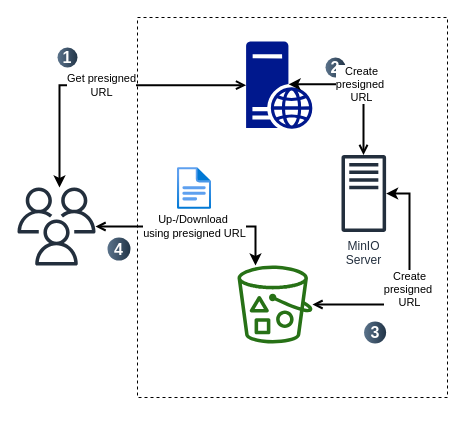
Image size: 465x423. Some labels were removed from this diagram. Each missing label, with the centre of its shape:
"Application server" goes at point 279,84.
"S3 Bucket" goes at point 274,304.
